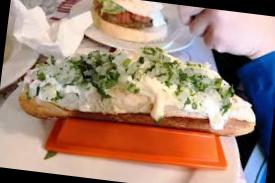Completos: (13, 32, 262, 154)
